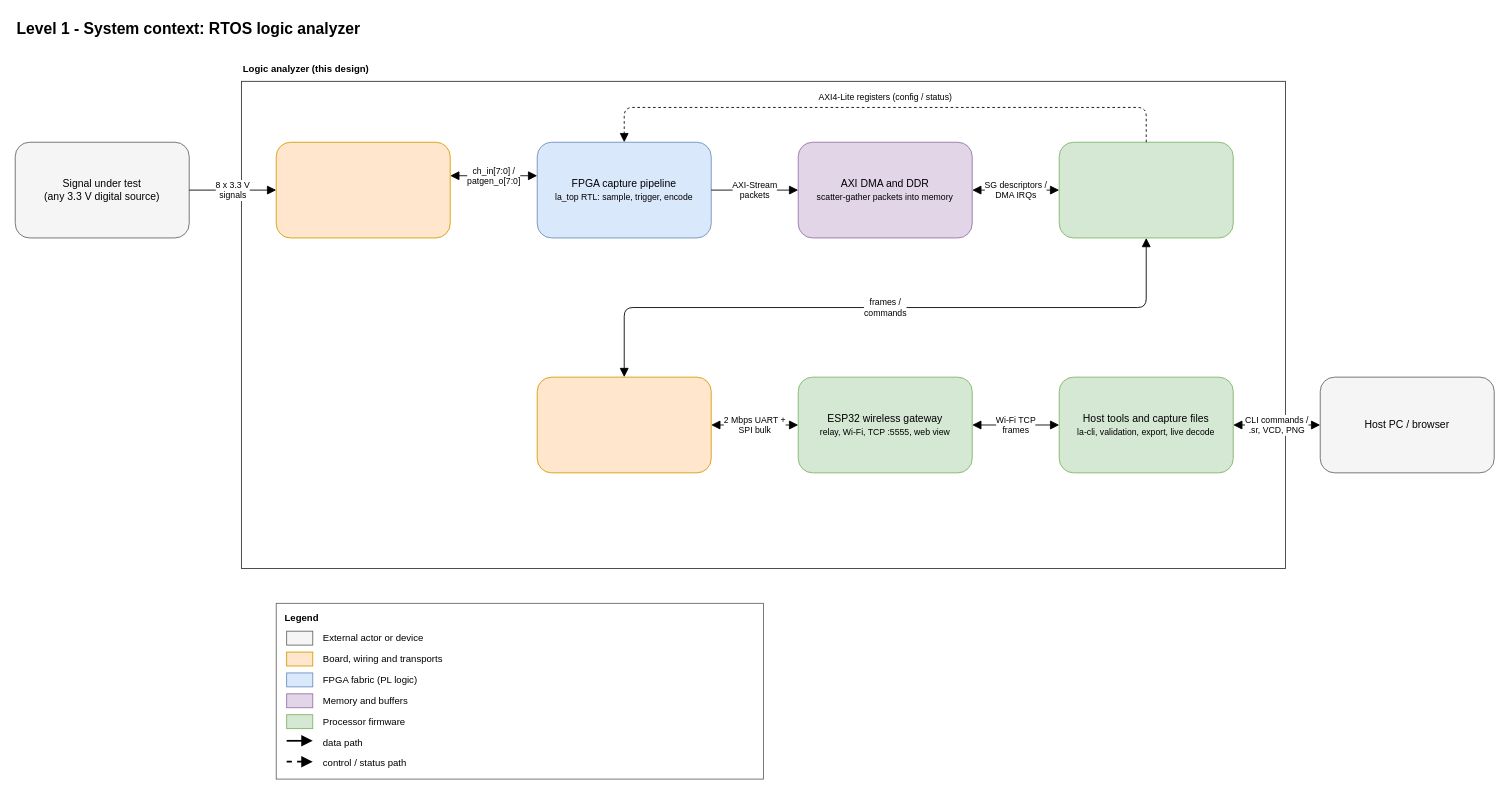
Image size: 1509x794. Some labels were removed from this diagram. Here are the shapes that lost their labels. From the top down, the centre of each, then its label:
pixel 362 189: Signals and physical I/O JC/JE pads, synchronizers, wiring
pixel 1145 189: Zynq FreeRTOS control tasks, queues, decoders, ownership
pixel 623 424: Framed UART + SPI link CRC16 frames, ACK window, bulk path
